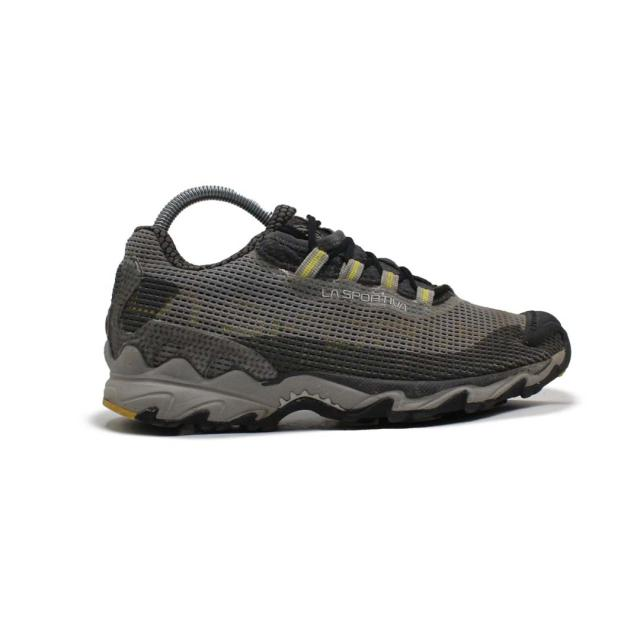heel: (107, 198, 144, 346)
midsole: (103, 346, 586, 430)
uppersole: (151, 203, 584, 378)
